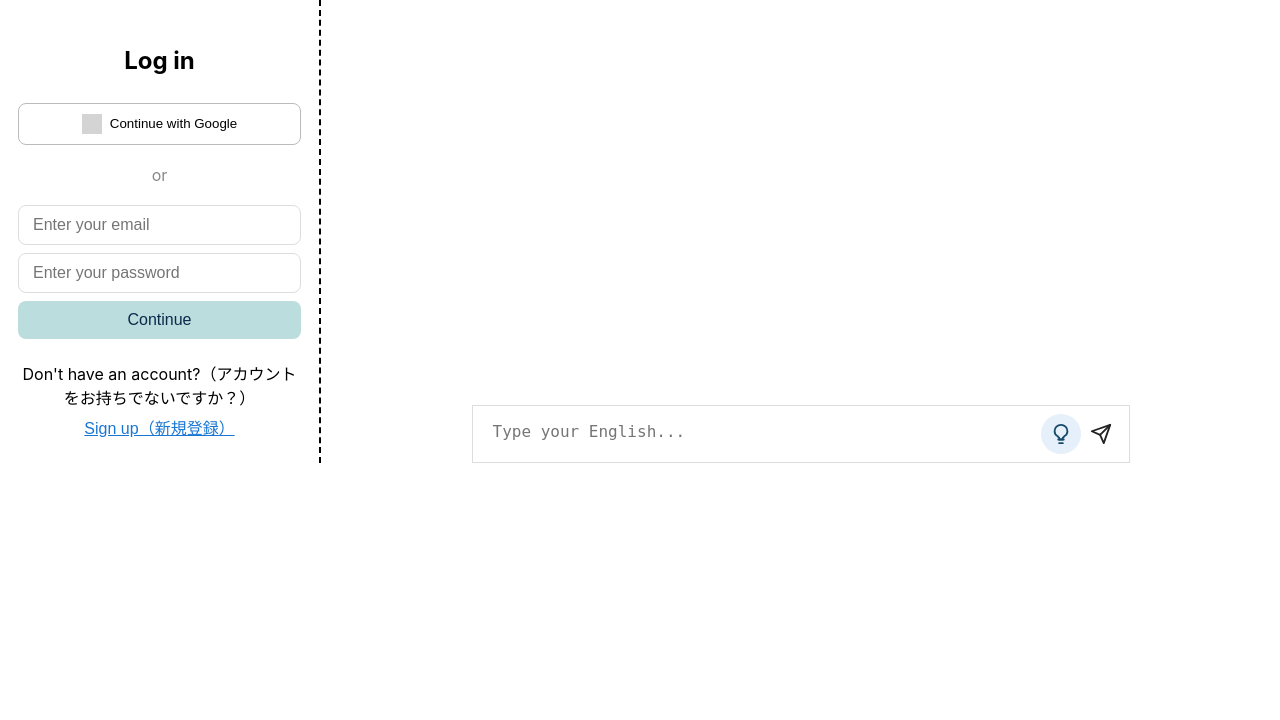
Test: Login UI behavior › requires policy agreement for Google sign-up
The width and height of the screenshot is (1280, 720).
Click the button "Sign up（新規登録）" at (160, 427), box [70,409,249,445]
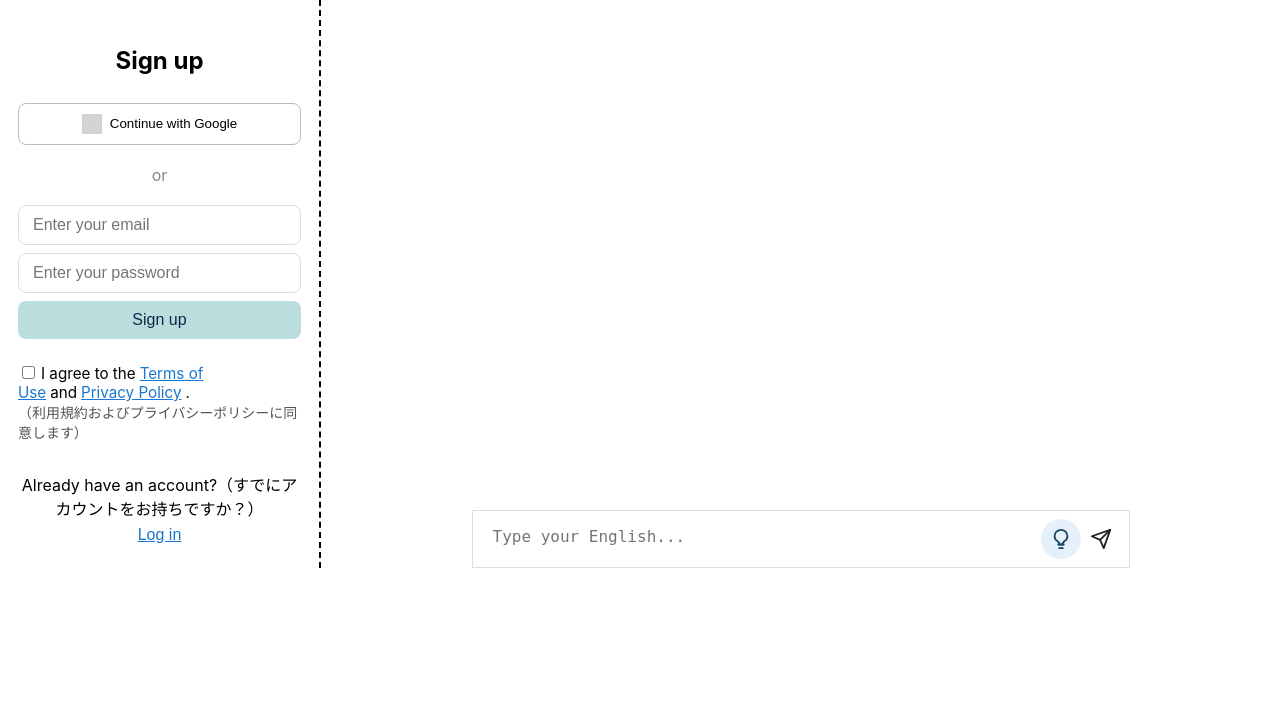
Expected: the heading "Sign up" is shown, [116,46,204,75]
Click the button "Continue with Google" at (160, 124), box [18,103,301,145]
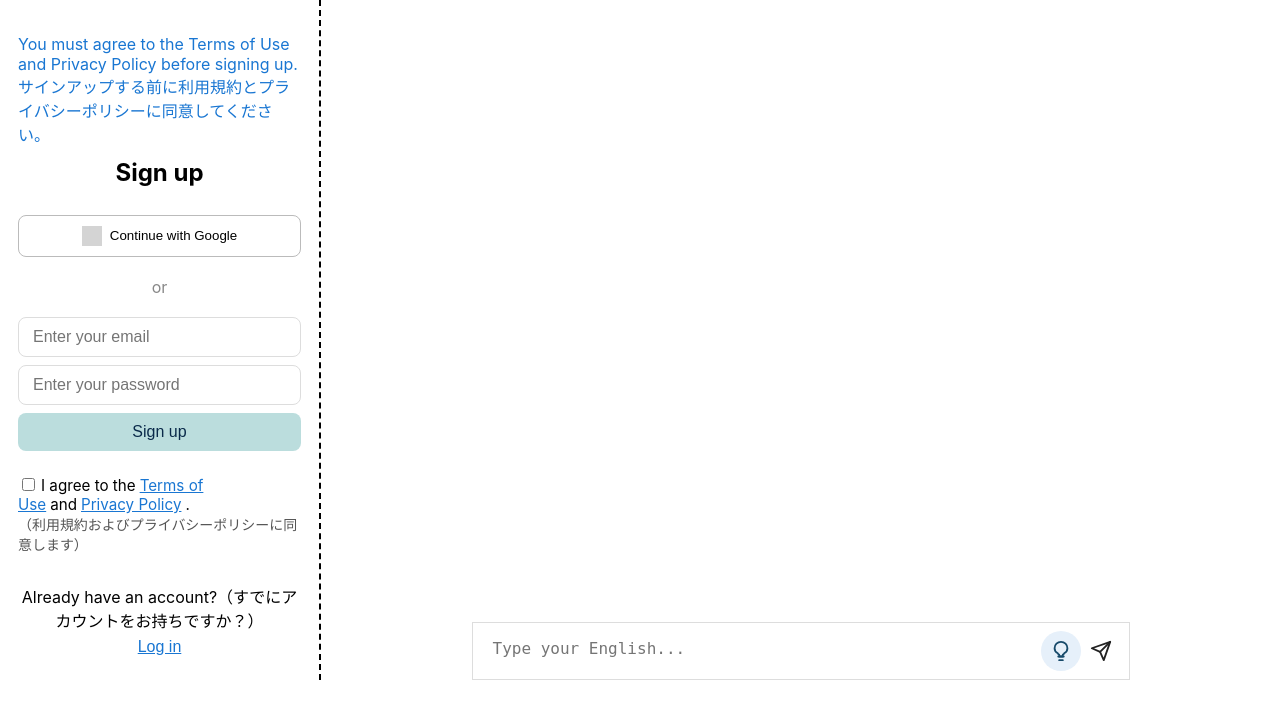
Expected: the text "You must agree" is shown, [18,34,298,74]
